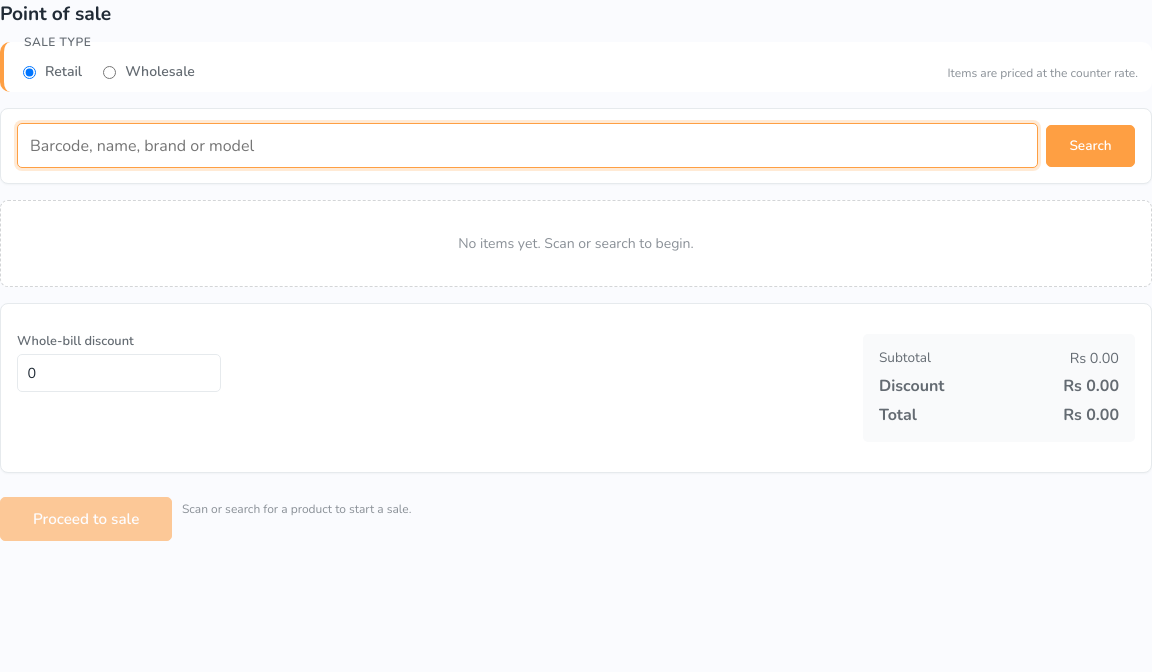
finishing a sale clears the stored cart › leaves nothing behind for the next refresh to restore
Type "cable" into the field named "scan or search" at (528, 146), box 17,123 -> 1038,168
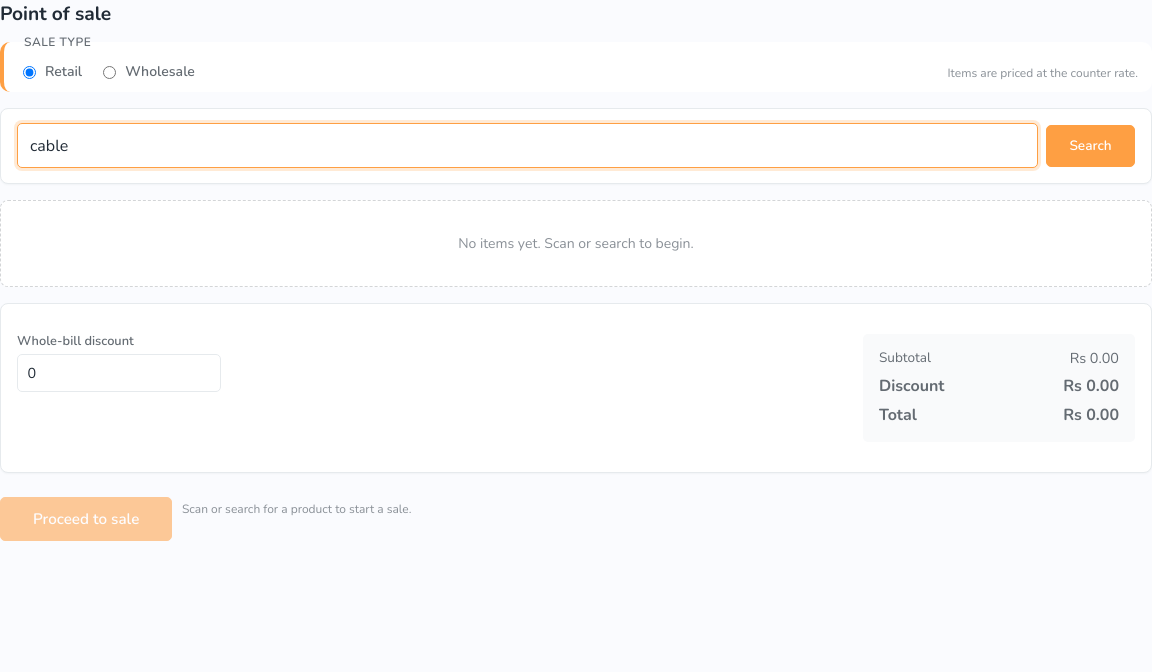
Click the button "Search" at (1090, 146), box 1046,125 -> 1135,167
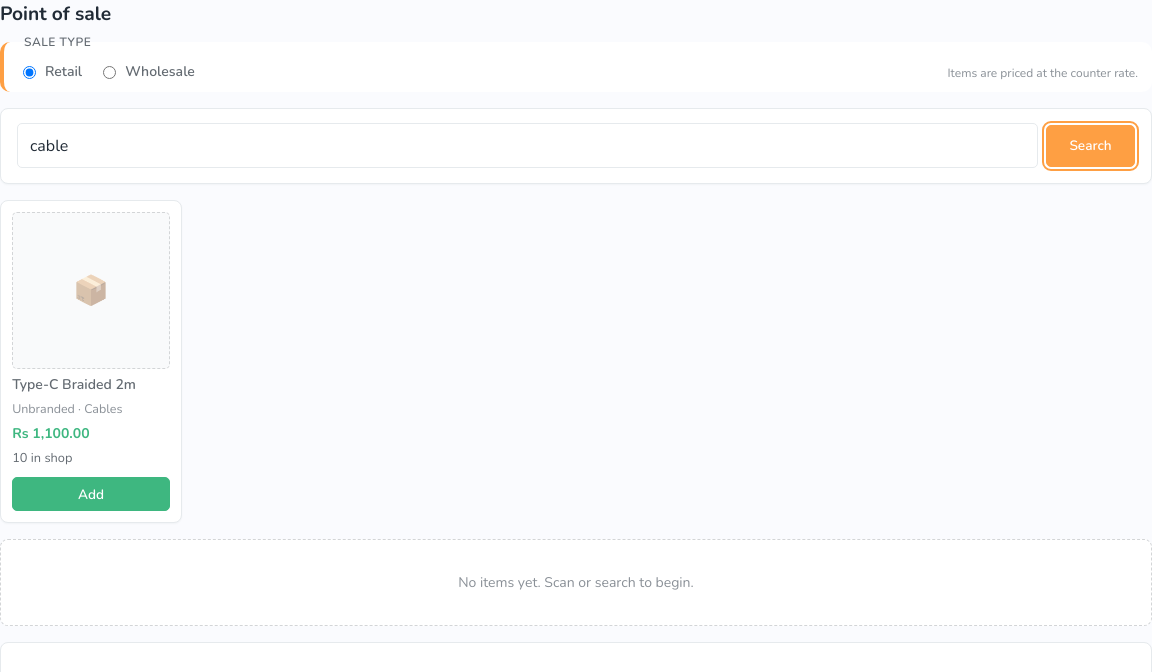
Click the button "Add" at (91, 494), box 12,477 -> 170,511
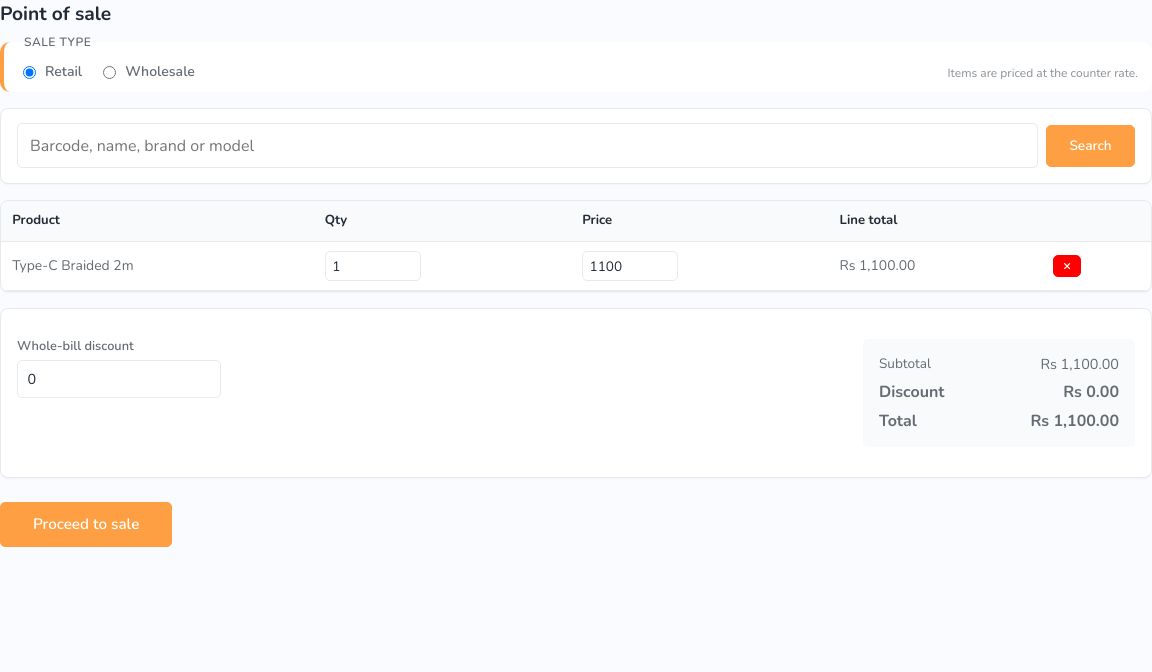
Click the button "Proceed to sale" at (86, 524), box 0,502 -> 172,547
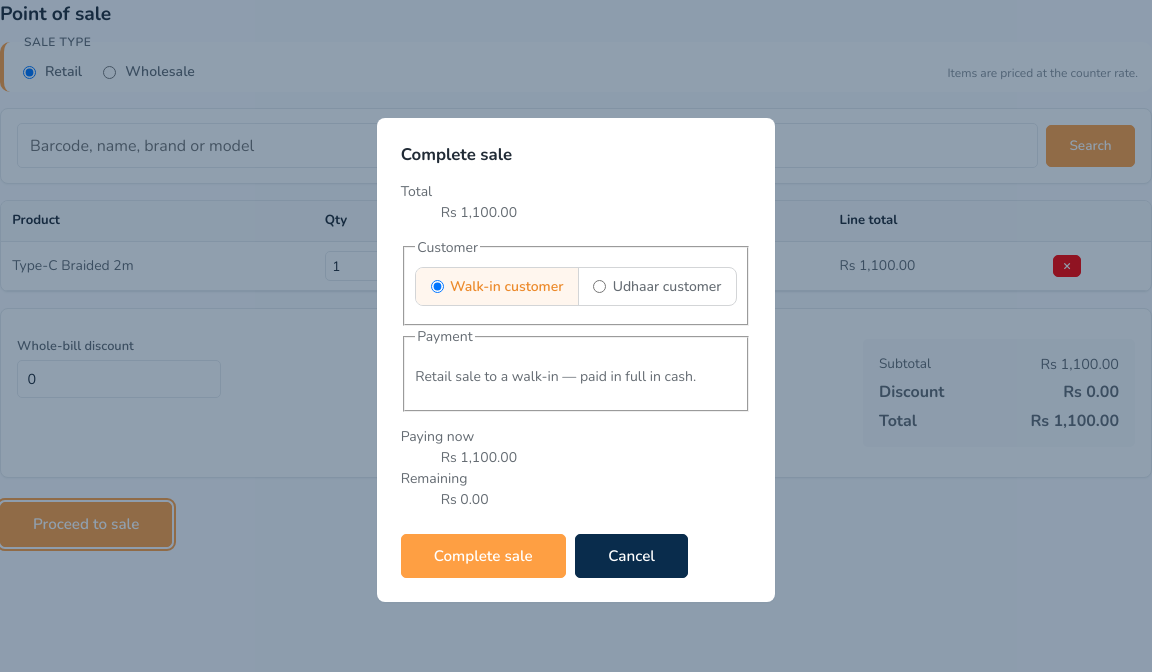
Click the button "Complete sale" at (483, 556), box 401,534 -> 566,578
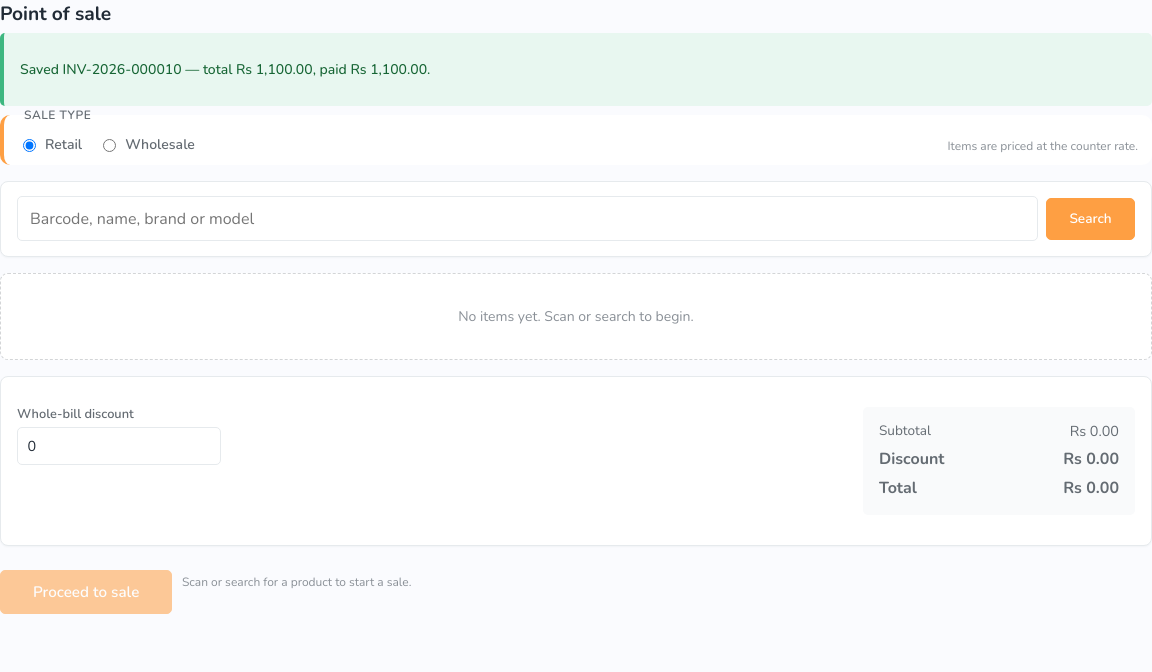
Check: the text "Saved INV-2026-000010 — total Rs 1,100.00, paid Rs 1,100.00." is shown, box 20,60 -> 430,79
